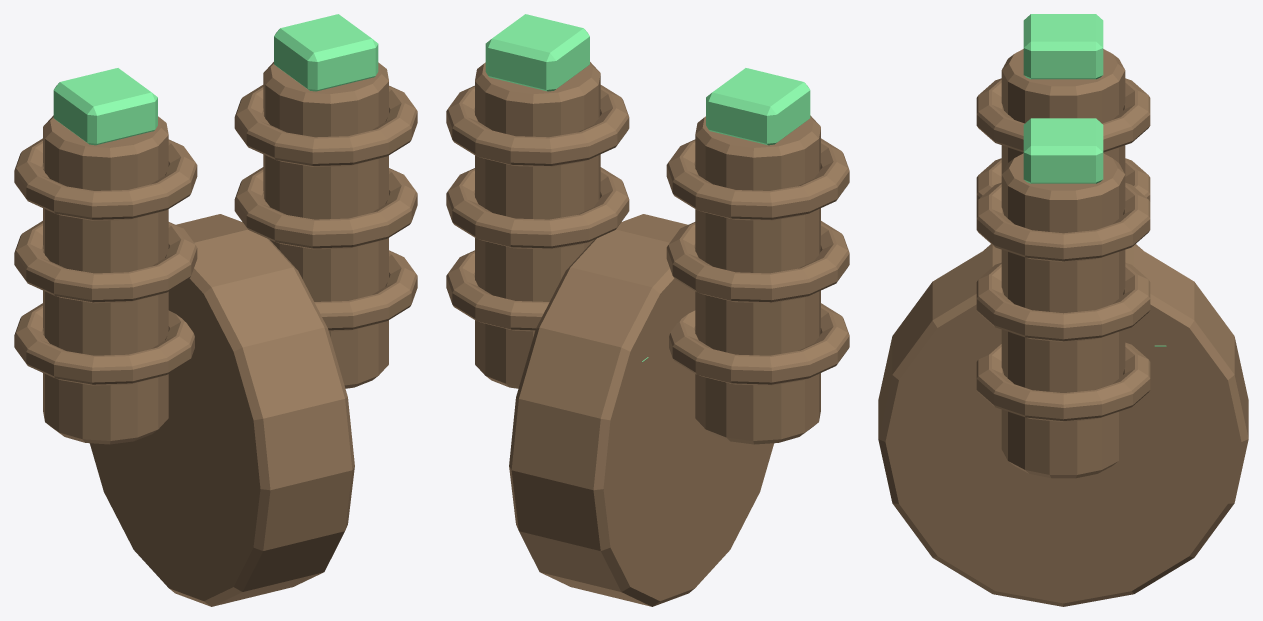
Rendered from PU_ExtraScavenging.fbx.
The picture shows the model from 3 angles, left to right: view 1: azimuth 30°, elevation 25°; view 2: azimuth 150°, elevation 25°; view 3: azimuth 270°, elevation 25°; orthographic projection. The views are drawn at different scales.
Visible parts, largest first — view 1: PU_ExtraScavenging; view 2: PU_ExtraScavenging; view 3: PU_ExtraScavenging.
Boxes of the visible parts, x1,y1,x2,y2 form: PU_ExtraScavenging: (14, 14, 417, 606); PU_ExtraScavenging: (446, 14, 849, 606); PU_ExtraScavenging: (878, 14, 1248, 606).
Bounding box in the file's own units: 0.4174 × 0.55 × 0.3638.
